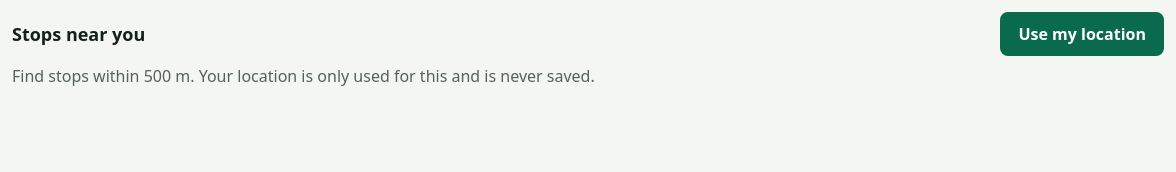
Test: NearbyStops › says when no stop is within 500 m
Click the button "Use my location" at (1082, 34), box [1000, 12, 1164, 56]
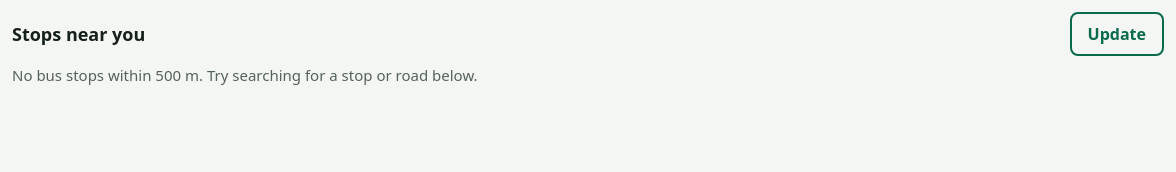
Expected: the text "No bus stops within 500 m. Try searching for a stop or road below." is shown, [12, 65, 478, 85]
